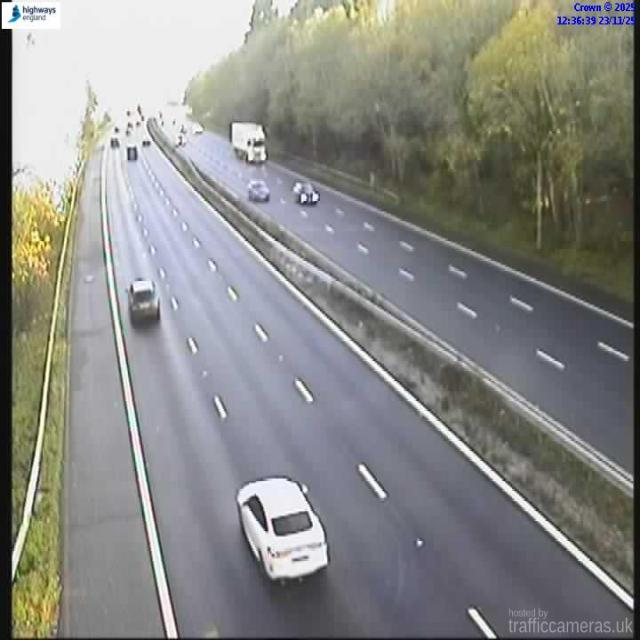foliage: (186, 0, 639, 299), (12, 186, 58, 330)
